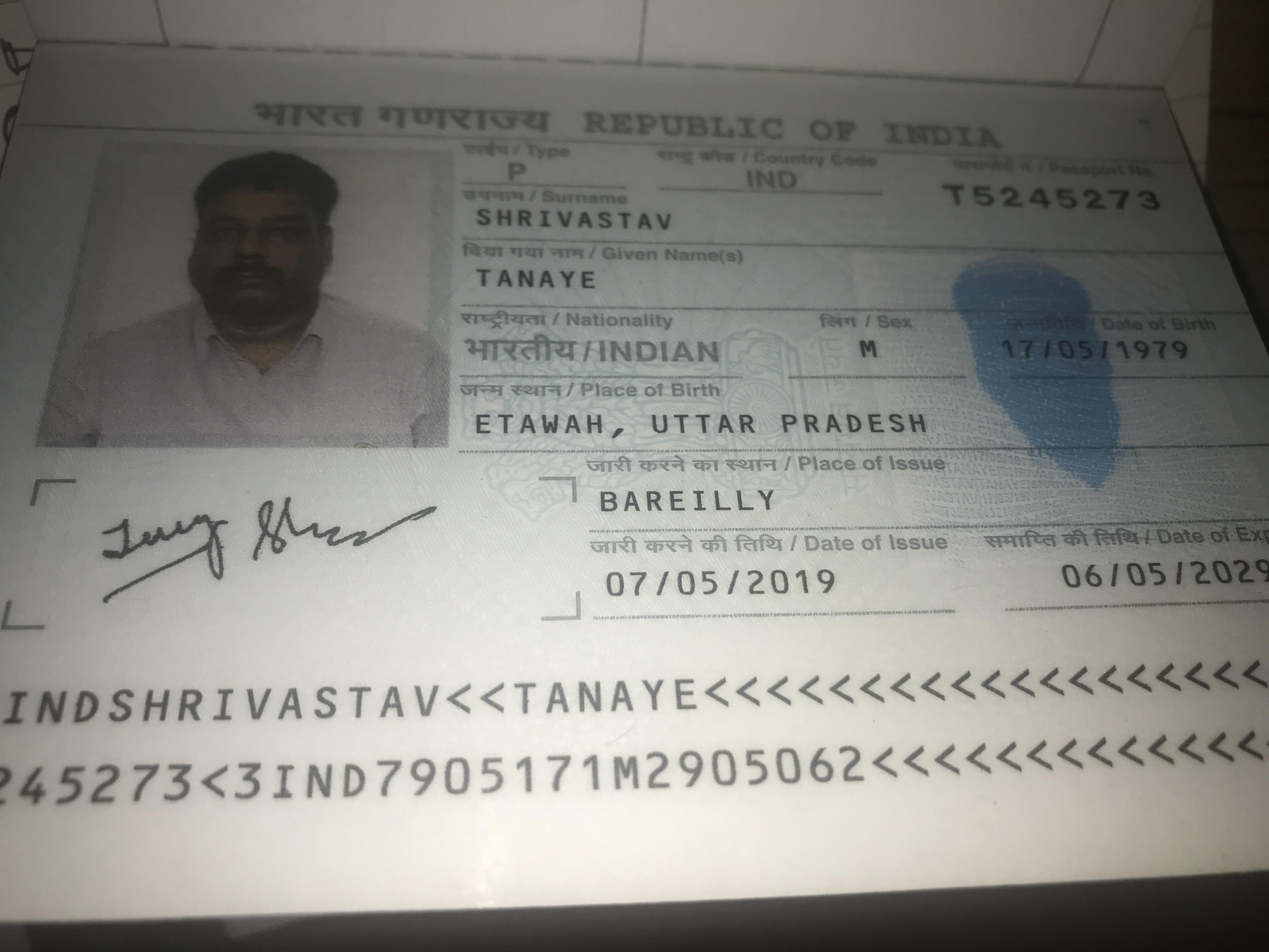DOB: (782, 742, 825, 897)
Surname: (957, 345, 1007, 552)
country_code: (1005, 549, 1050, 603)
date_of_expiry: (473, 787, 538, 952)
date_of_issue: (464, 443, 521, 635)
details: (159, 5, 419, 952)
name: (869, 342, 923, 484)
nationality: (779, 341, 826, 550)
passport_no: (974, 689, 1037, 895)
photo: (680, 35, 1078, 333)
place_of_birth: (680, 347, 739, 715)
place_of_issue: (578, 445, 629, 586)
sex: (781, 636, 825, 671)
sign: (465, 57, 628, 316)
type: (1028, 375, 1053, 409)
